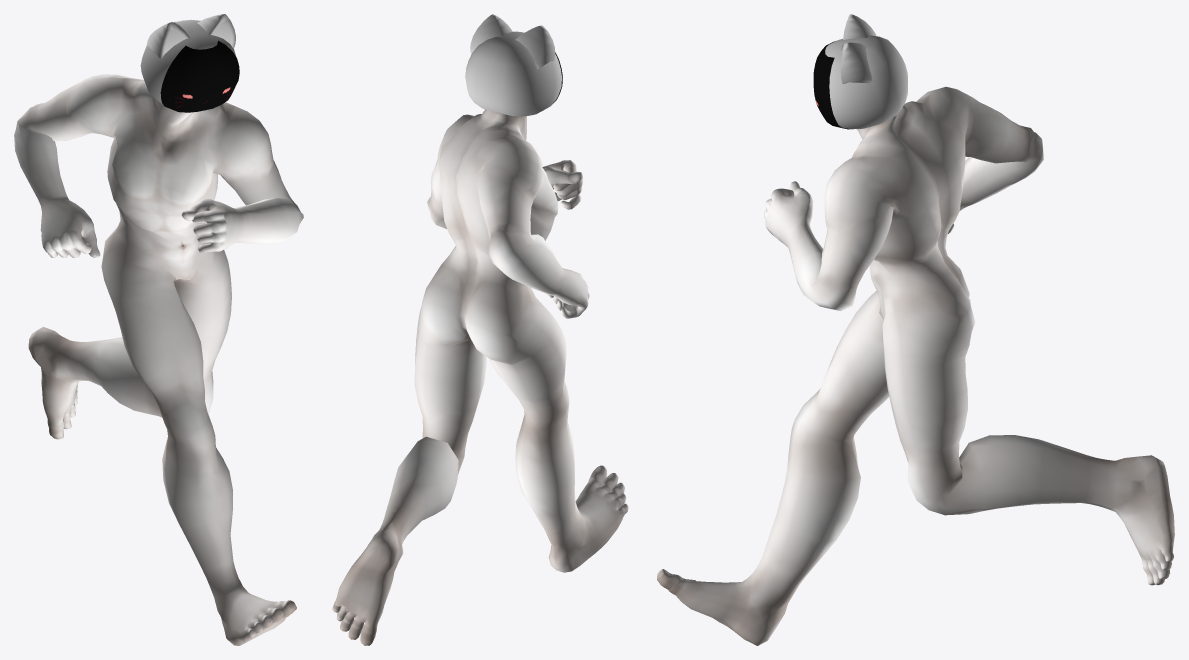
The picture shows the model from 3 angles, left to right: view 1: azimuth 30°, elevation 25°; view 2: azimuth 150°, elevation 25°; view 3: azimuth 270°, elevation 25°; orthographic projection. The views are drawn at different scales.
Visible parts, largest first — view 1: Muscle_Body, ______?001, Cat_Head; view 2: Muscle_Body, Cat_Head; view 3: Muscle_Body, Cat_Head, ______?001.
Part boxes in pixels (x1,y1,x2,y2): Muscle_Body: [14, 74, 303, 645]; ______?001: [160, 40, 239, 112]; Cat_Head: [140, 14, 236, 105]; Muscle_Body: [332, 109, 628, 645]; Cat_Head: [465, 14, 561, 116]; Muscle_Body: [657, 86, 1174, 645]; Cat_Head: [825, 14, 907, 129]; ______?001: [813, 41, 849, 129].
Bounding box in the file's own units: 9.99 × 27.6 × 20.92.
